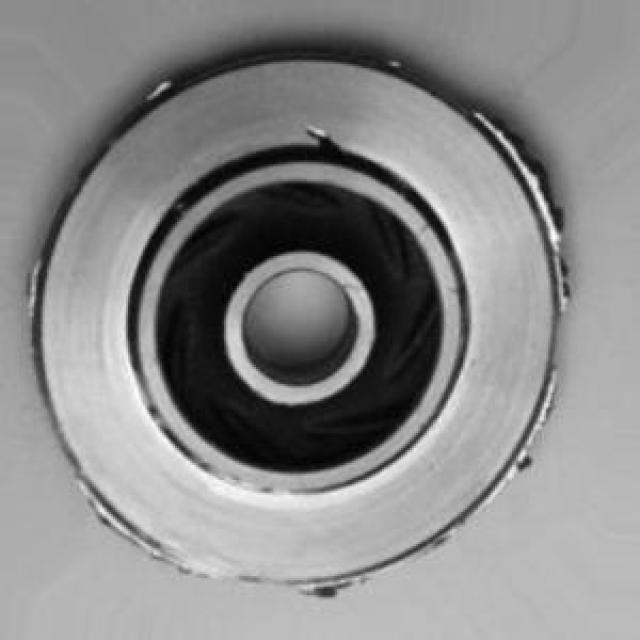Defect: (494, 129, 574, 220)
